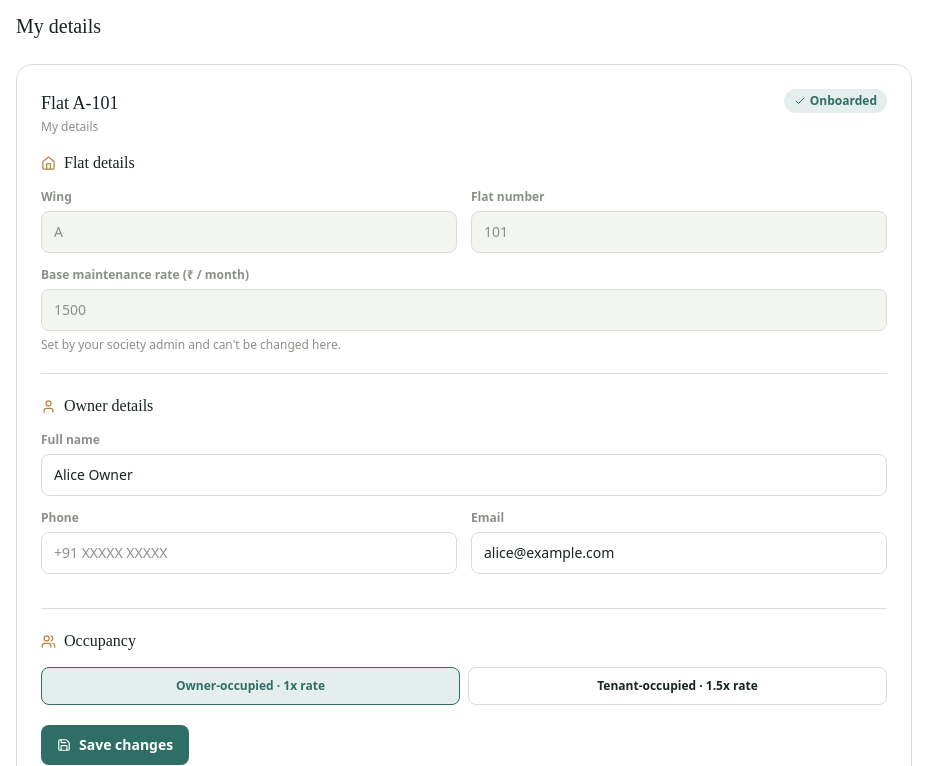
Test case: MyDetailsPage › OWNER — combined flat form › switching to tenant-occupied reveals the tenant details section
Expected: the field showing "Alice Owner" is shown, [41, 454, 887, 496]
Click the button "Tenant-occupied · 1.5x rate".
click(678, 686)  # box [468, 667, 887, 705]
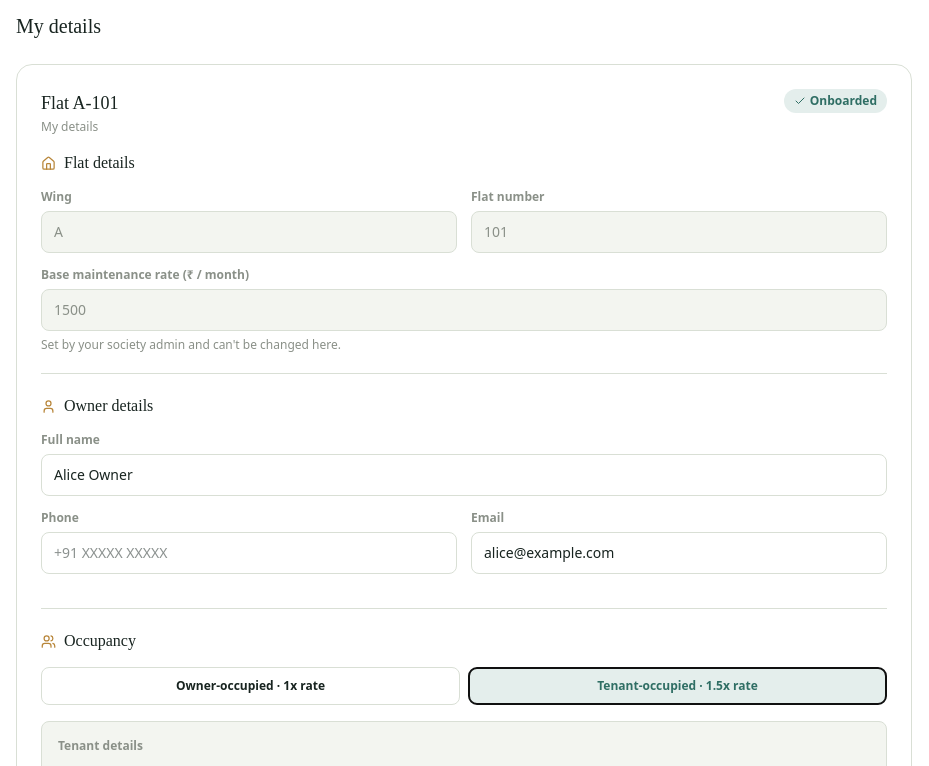
Now the text "Tenant details" is shown, box [58, 737, 143, 754]
